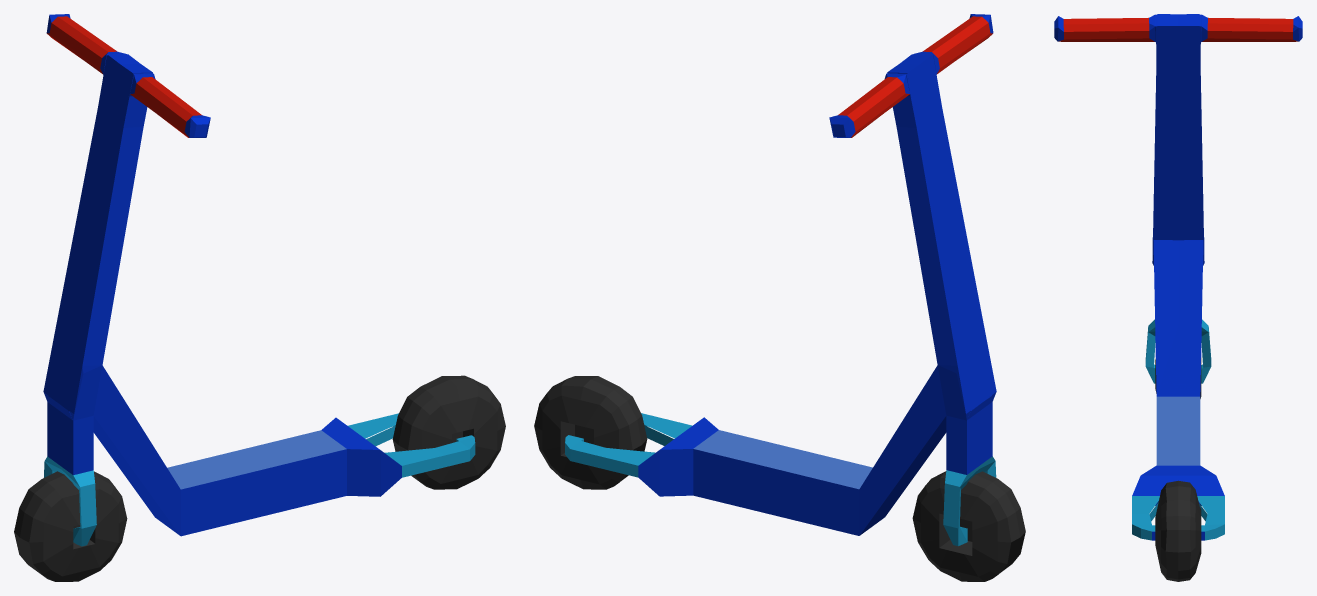
File: Skuter v2.fbx
The picture shows the model from 3 angles, left to right: view 1: azimuth 30°, elevation 25°; view 2: azimuth 150°, elevation 25°; view 3: azimuth 270°, elevation 25°; orthographic projection. The views are drawn at different scales.
Visible parts, largest first — view 1: Куб, Куб.002, Куб.001; view 2: Куб, Куб.002, Куб.001; view 3: Куб, Куб.001.
Boxes of the visible parts, box(x1,y1,x2,y2) form: Куб: box(43, 14, 475, 546); Куб.002: box(14, 471, 127, 581); Куб.001: box(392, 375, 505, 489); Куб: box(565, 14, 996, 546); Куб.002: box(912, 471, 1025, 581); Куб.001: box(534, 376, 647, 489); Куб: box(1054, 14, 1302, 540); Куб.001: box(1155, 480, 1201, 581).
Size of the model in its own units: 985 by 983 by 519.
